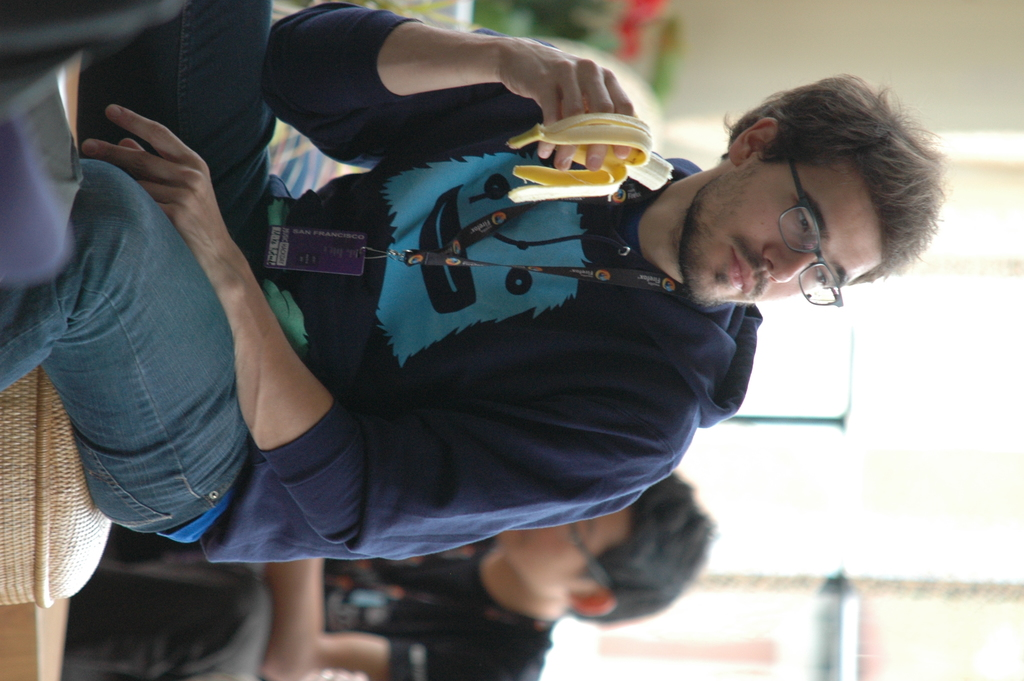Person: (58, 470, 716, 681)
